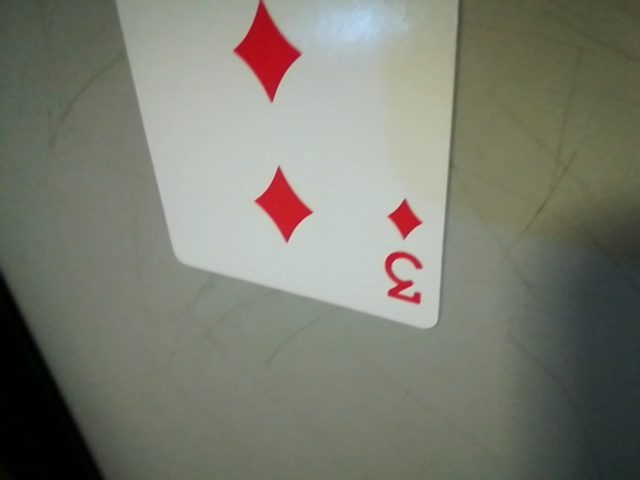fk 3: (369, 193, 438, 317)
